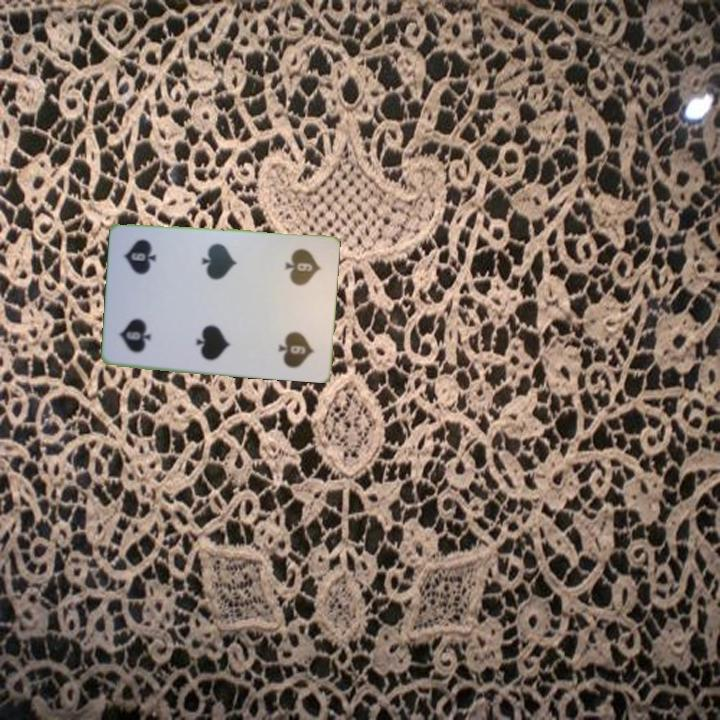s_6.png: (268, 241, 330, 312), (110, 292, 172, 362)
